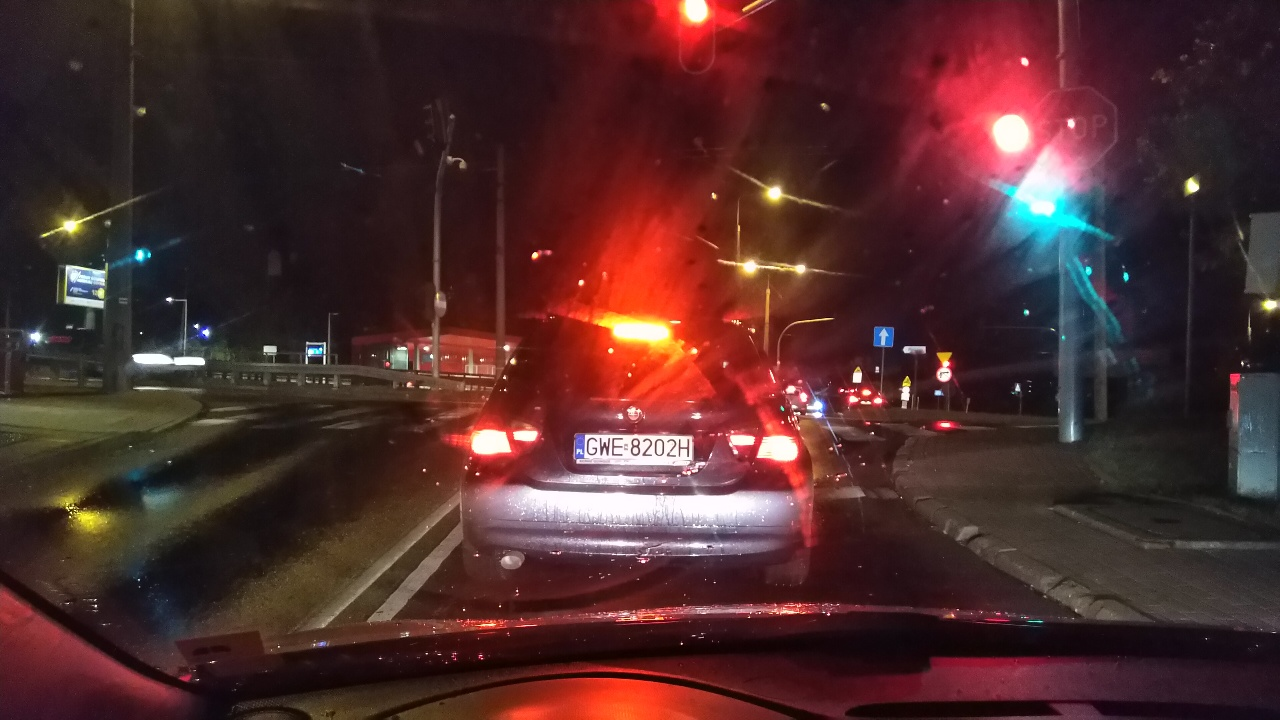B20: (1033, 86, 1120, 169)
D3: (873, 326, 894, 348)
Red: (684, 2, 707, 68)
